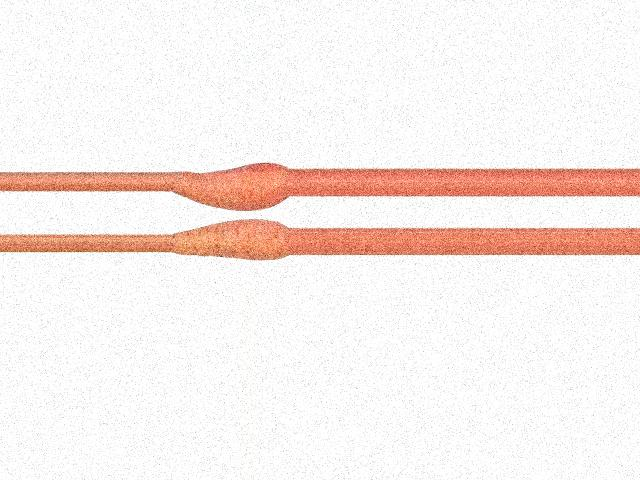sweet_potato: (174, 218, 289, 259)
